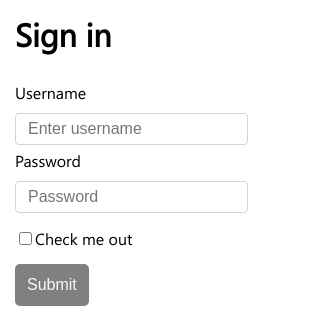
Test: enables submit button when username and password is entered
Type "testuser" into the field with test id "signin-username" at (132, 128), box [15,112,248,144]
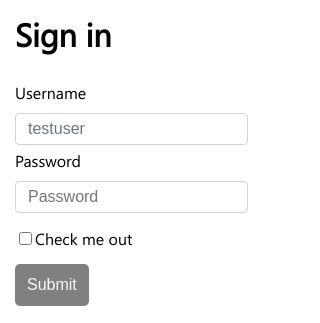
Type "testpassword" into the password field with test id "signin-password" at (132, 196), box [15,180,248,212]
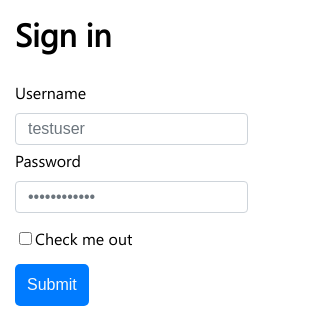
Check: the button with test id "signin-submit" is enabled, box [15,264,89,306]
